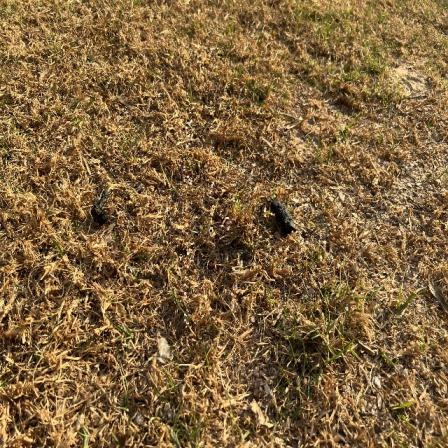dog-poop: (249, 192, 303, 246), (88, 182, 116, 228)
